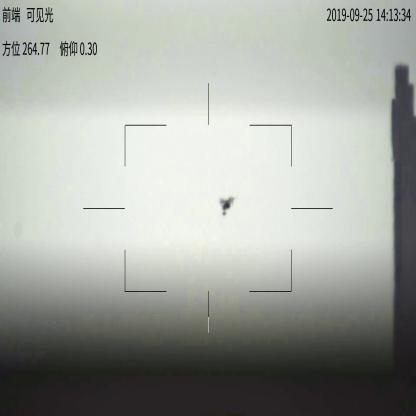uav: (220, 196, 235, 215)
